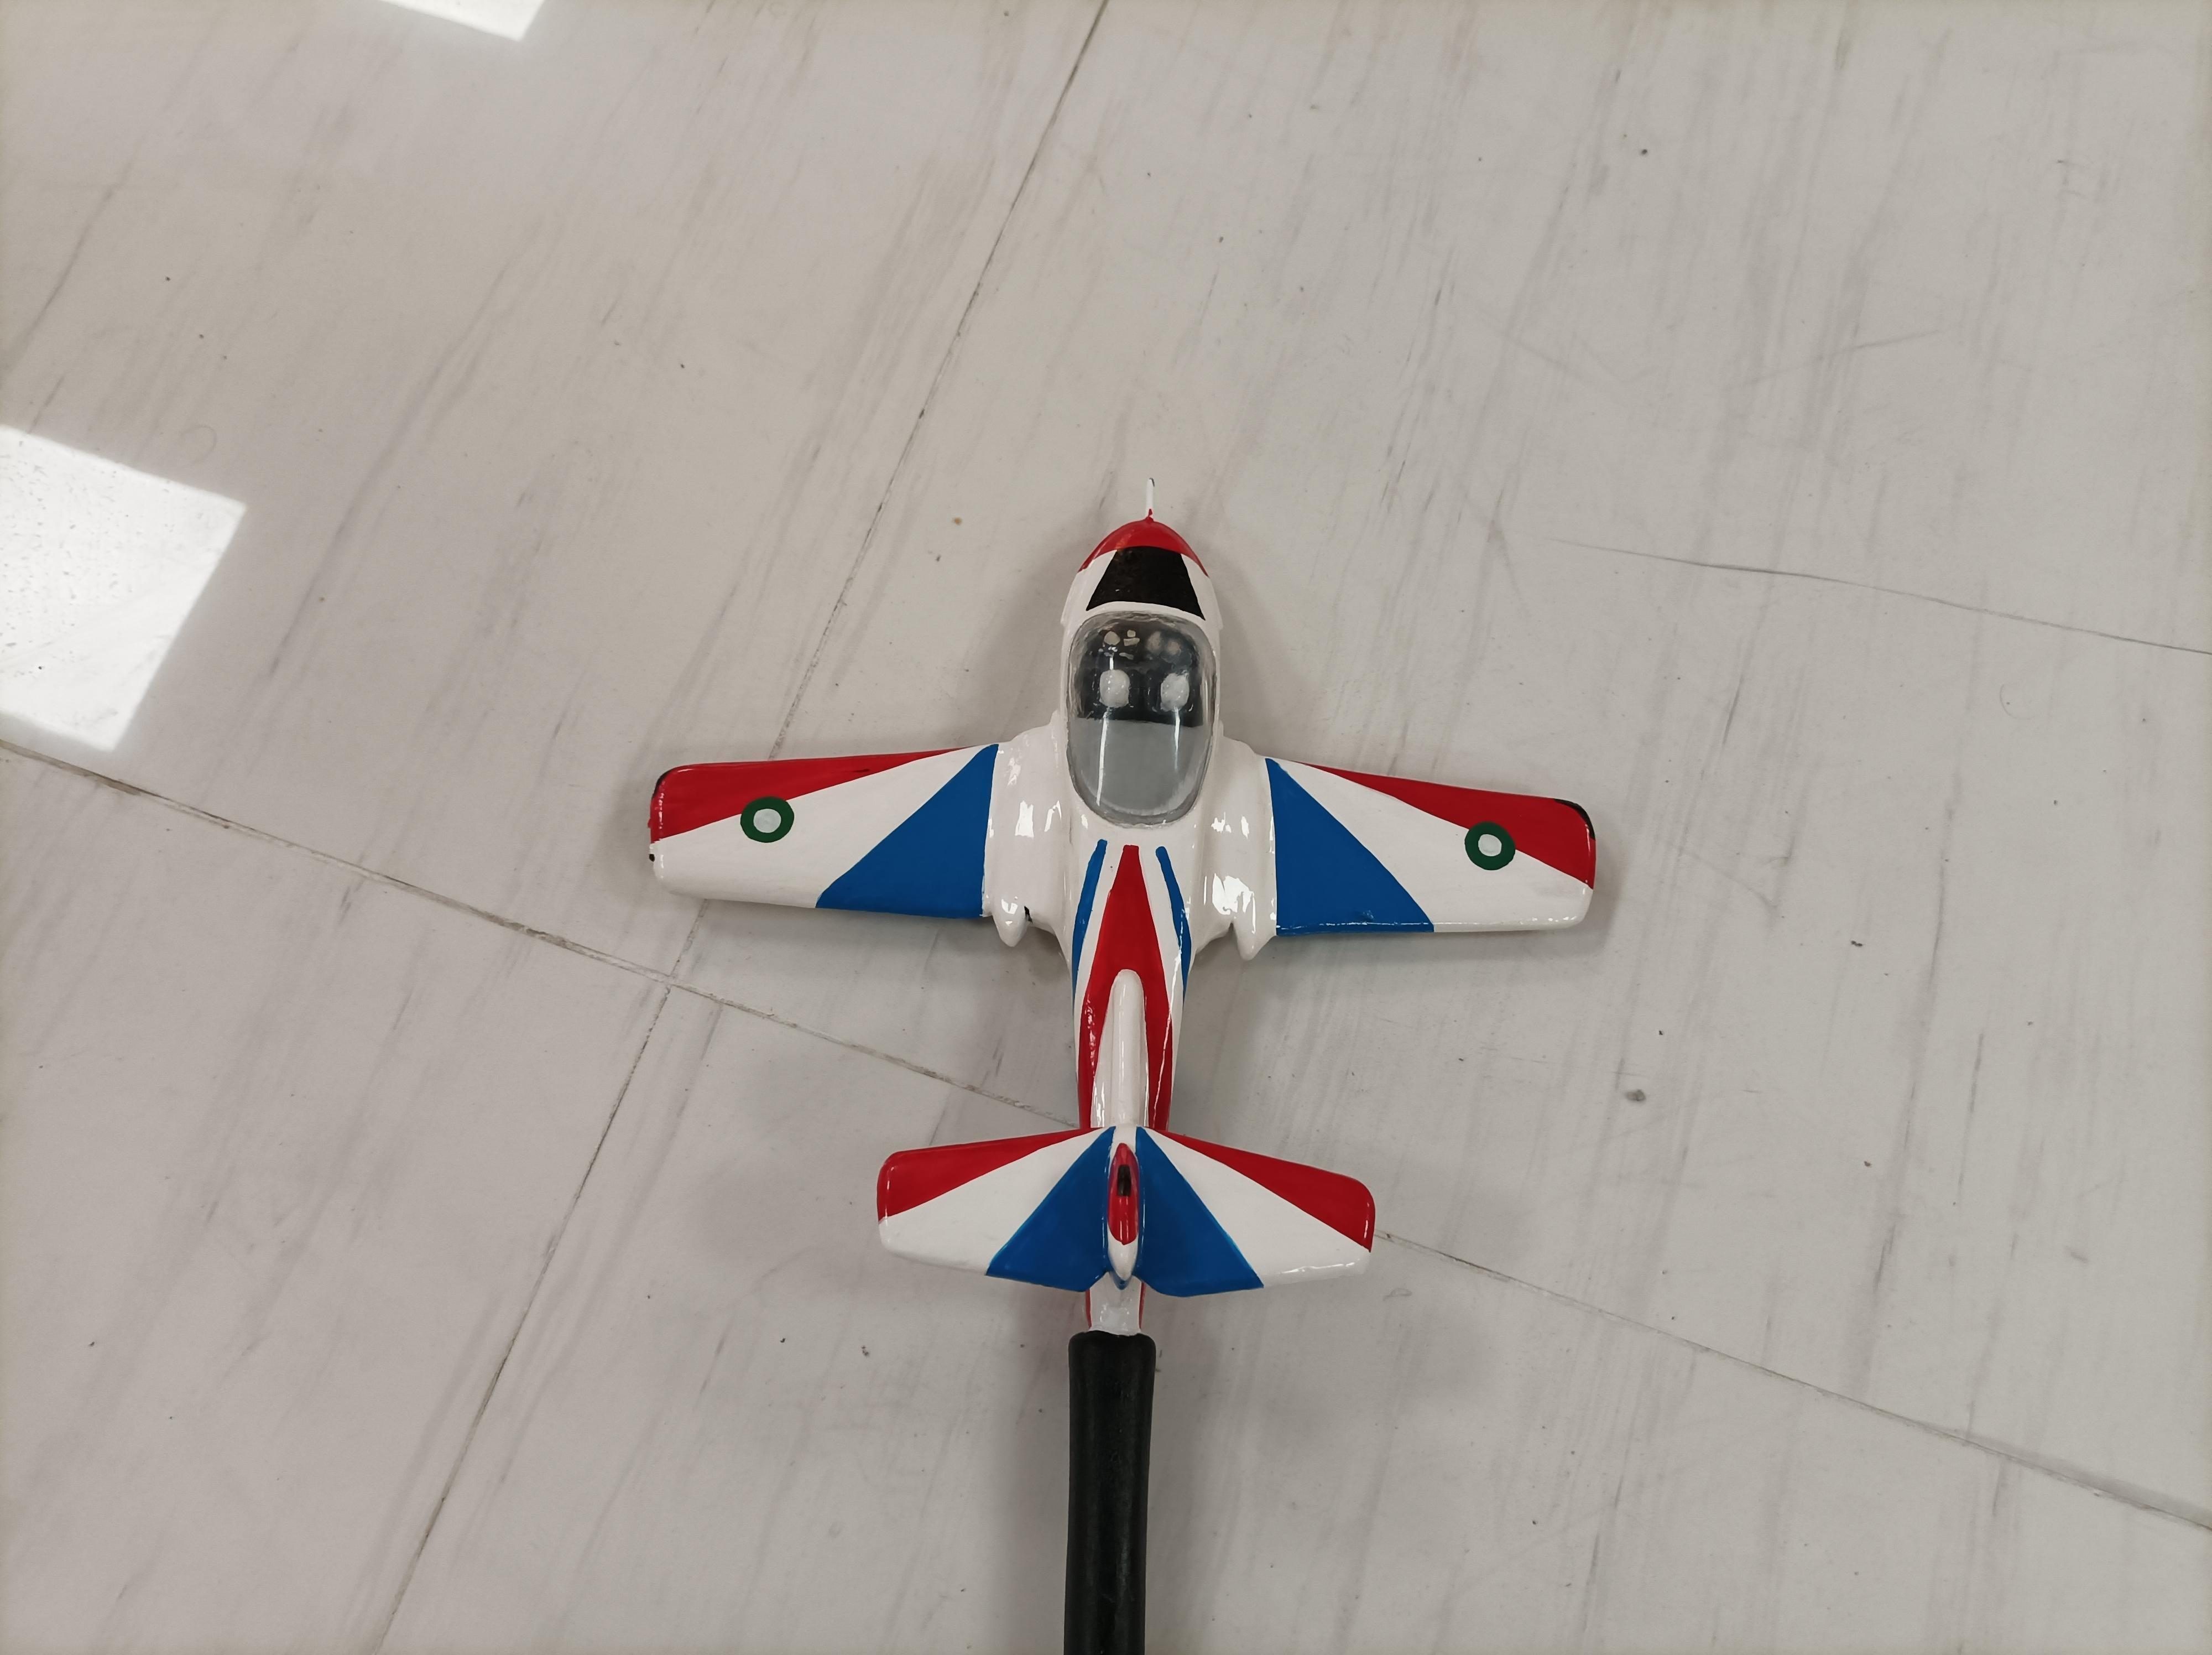Airplane: (641, 483, 1614, 1302)
